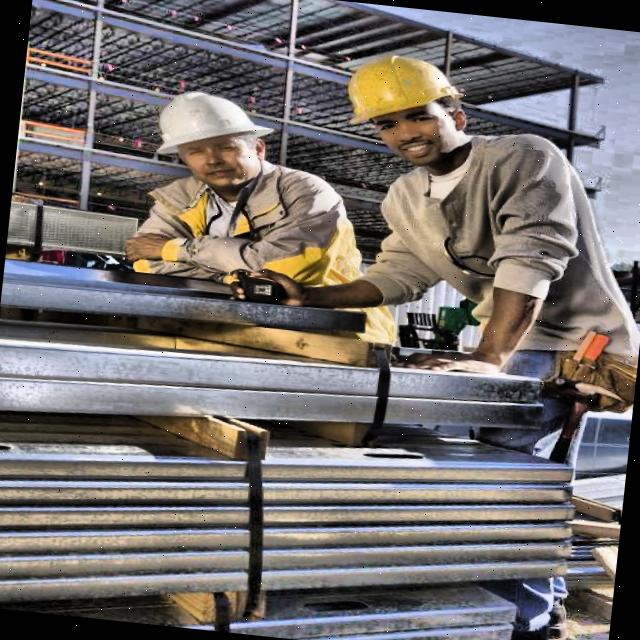helmet: (332, 49, 474, 170), (143, 86, 278, 192)
